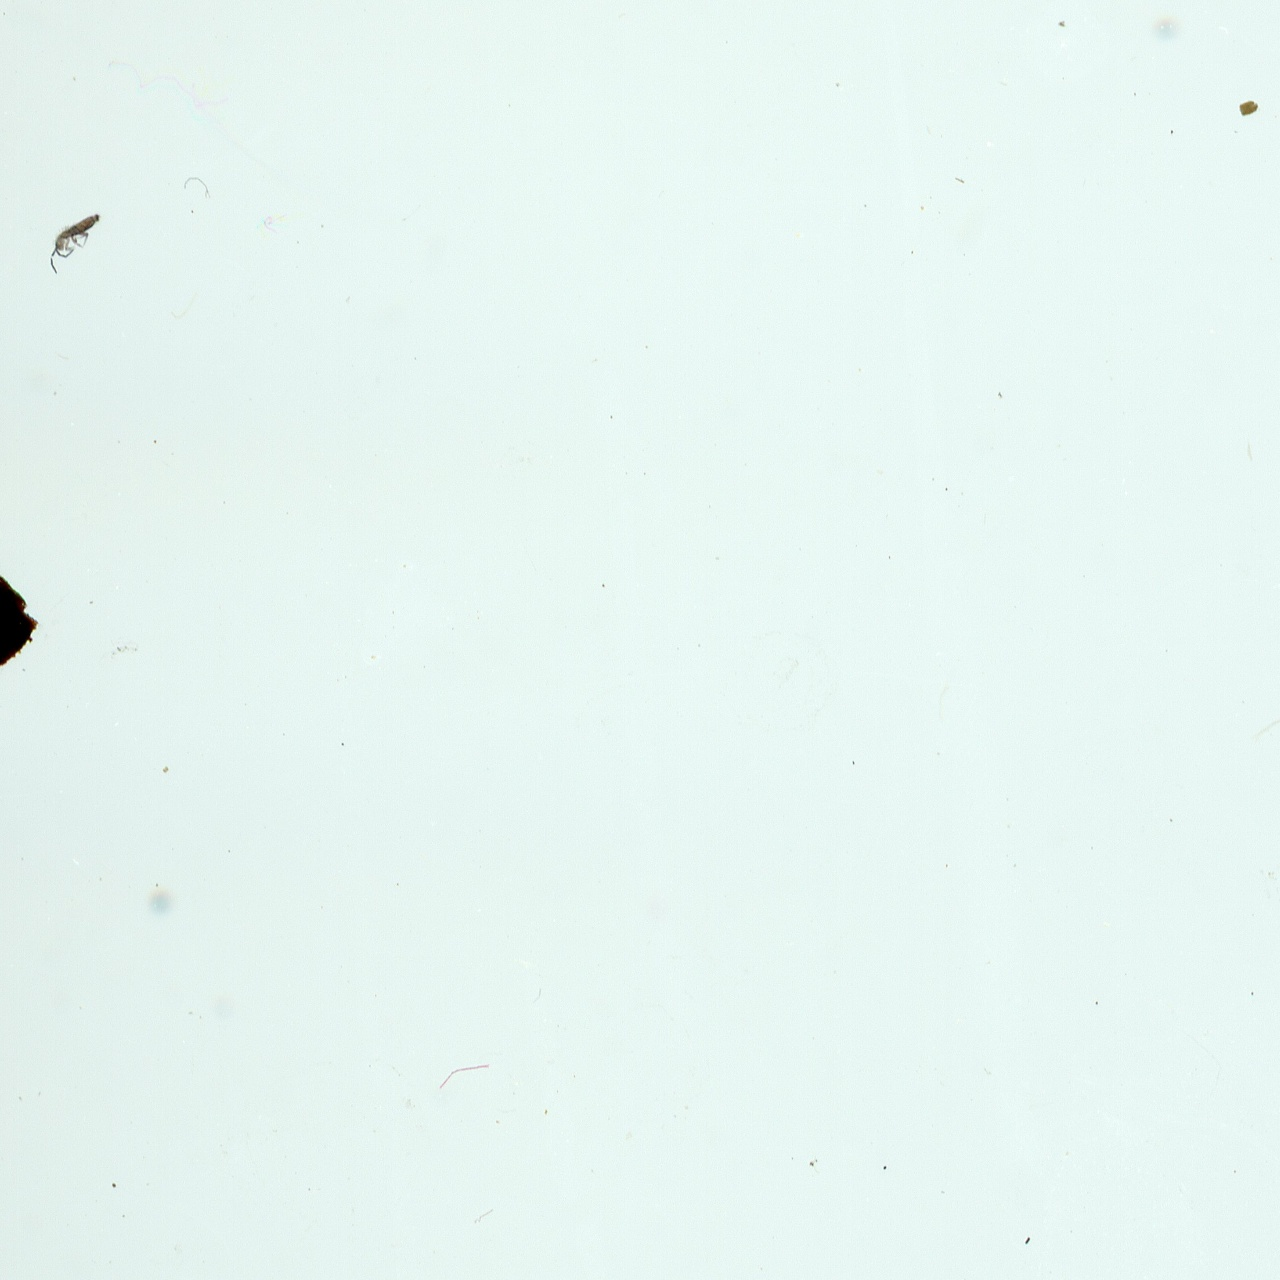arthropod: (29, 200, 124, 282)
